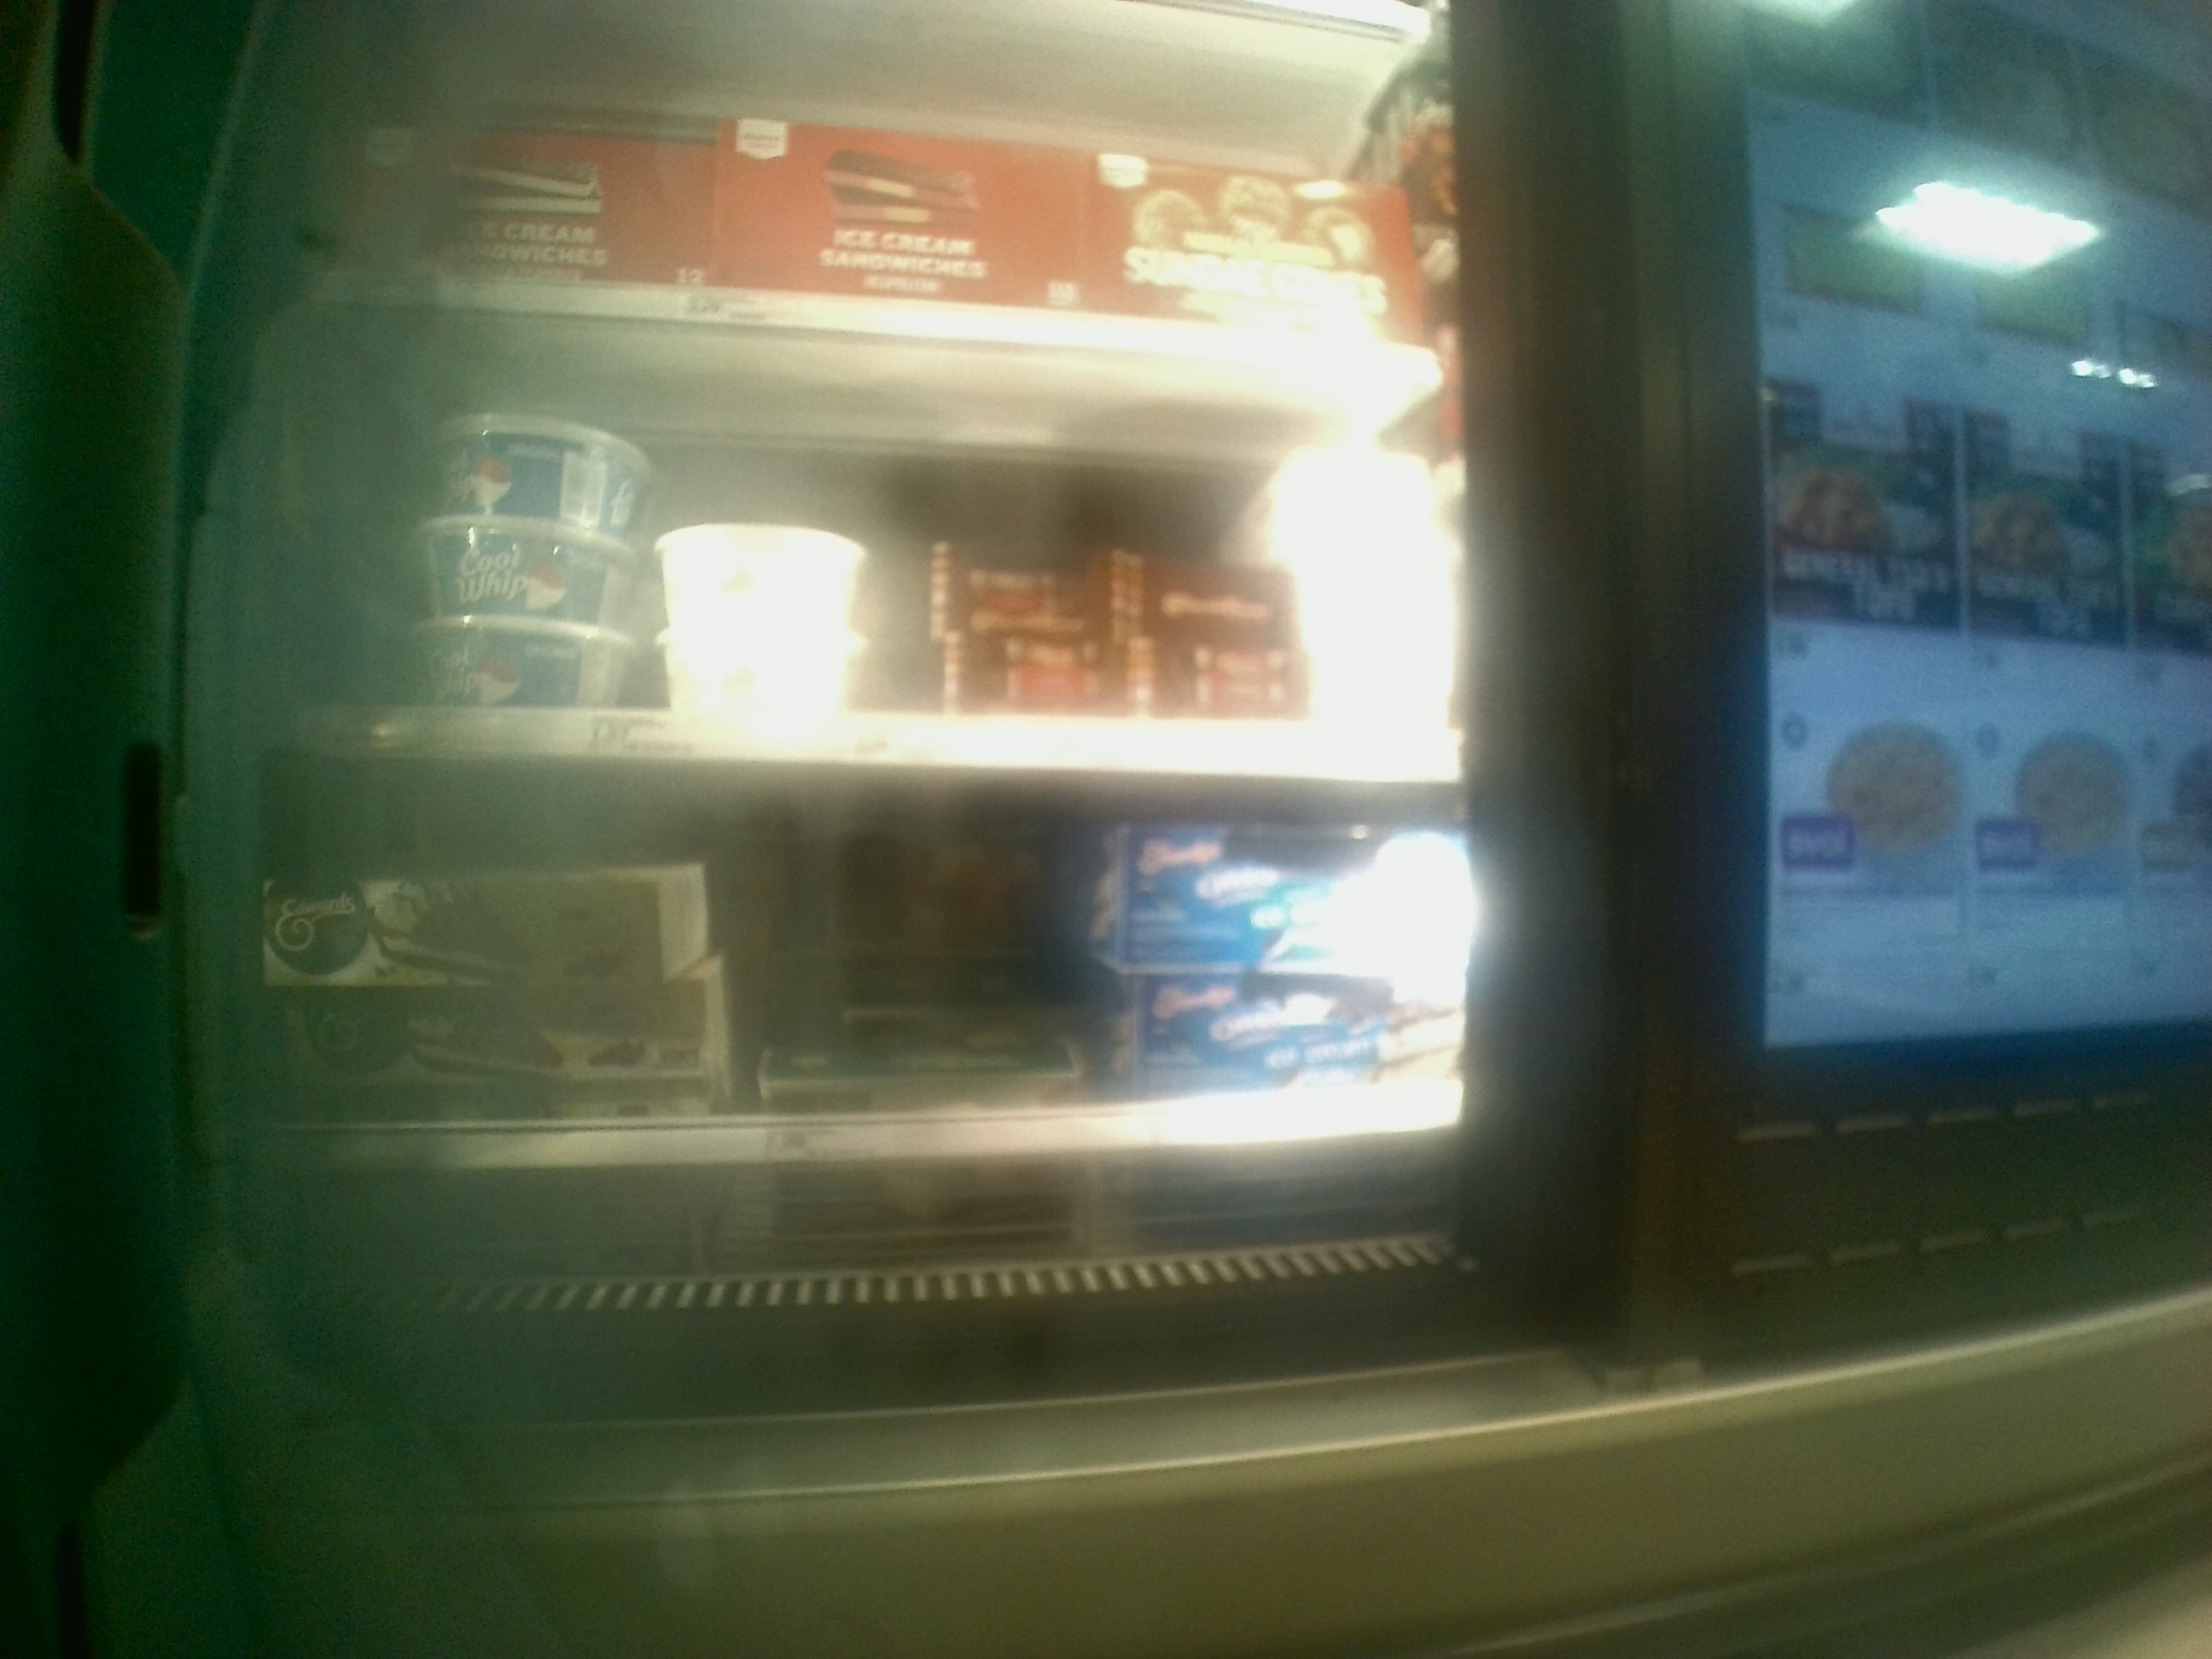shelf: (254, 756, 1489, 1260), (263, 301, 1453, 788)
